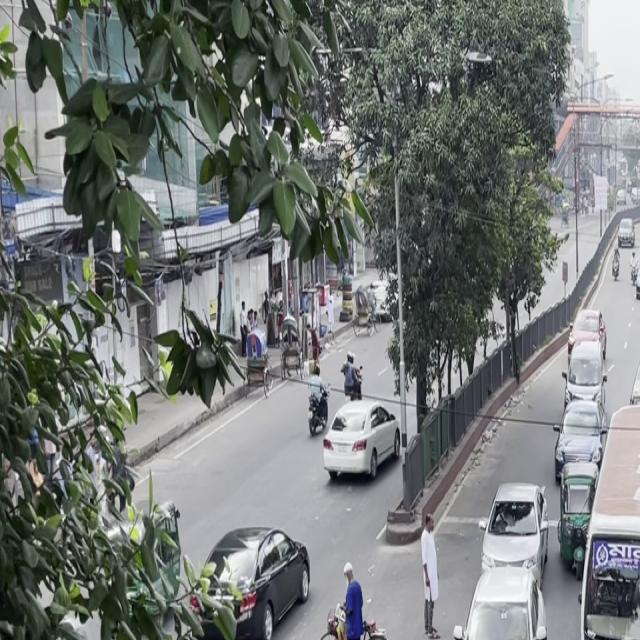bicycle: (311, 569, 401, 640)
bus: (573, 383, 639, 640)
car: (175, 510, 321, 640), (445, 540, 557, 640), (316, 394, 404, 500), (563, 336, 607, 413), (633, 260, 640, 304)
